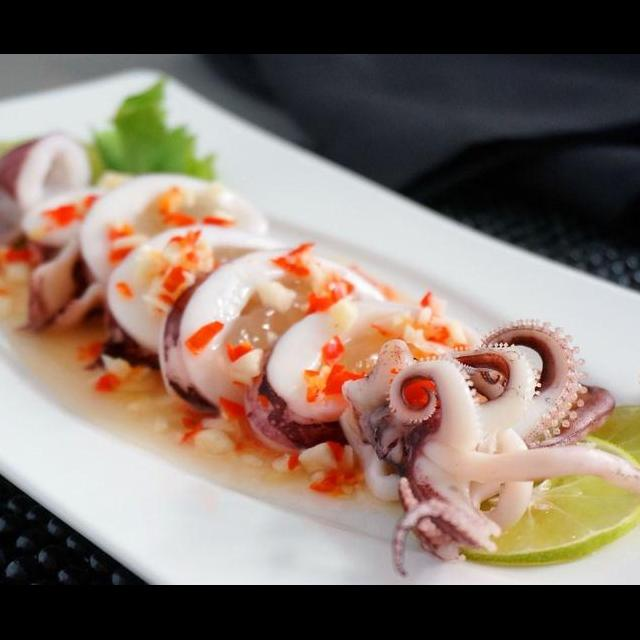muc: (335, 312, 640, 580), (11, 168, 275, 340), (152, 240, 396, 422), (240, 294, 487, 462), (80, 218, 302, 382), (0, 123, 98, 274)
